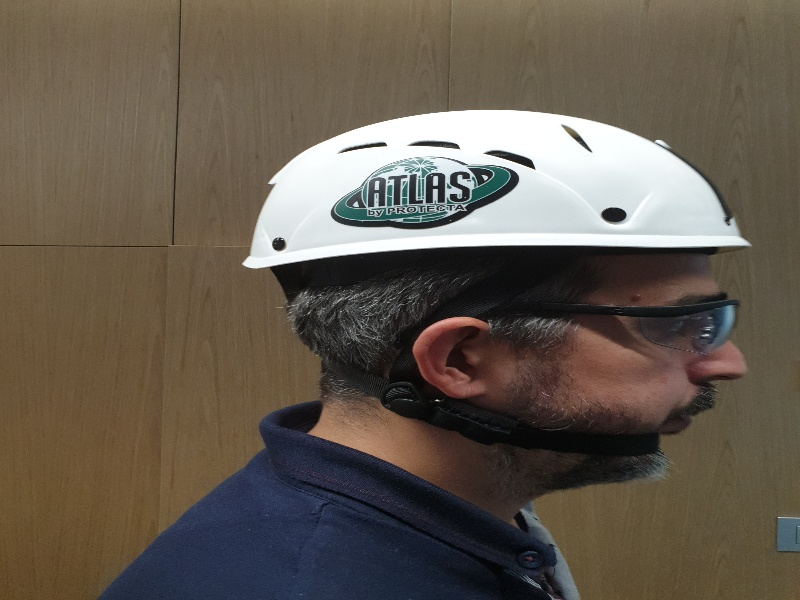Baret: (248, 110, 748, 258)
Gozluk: (493, 299, 743, 352)
